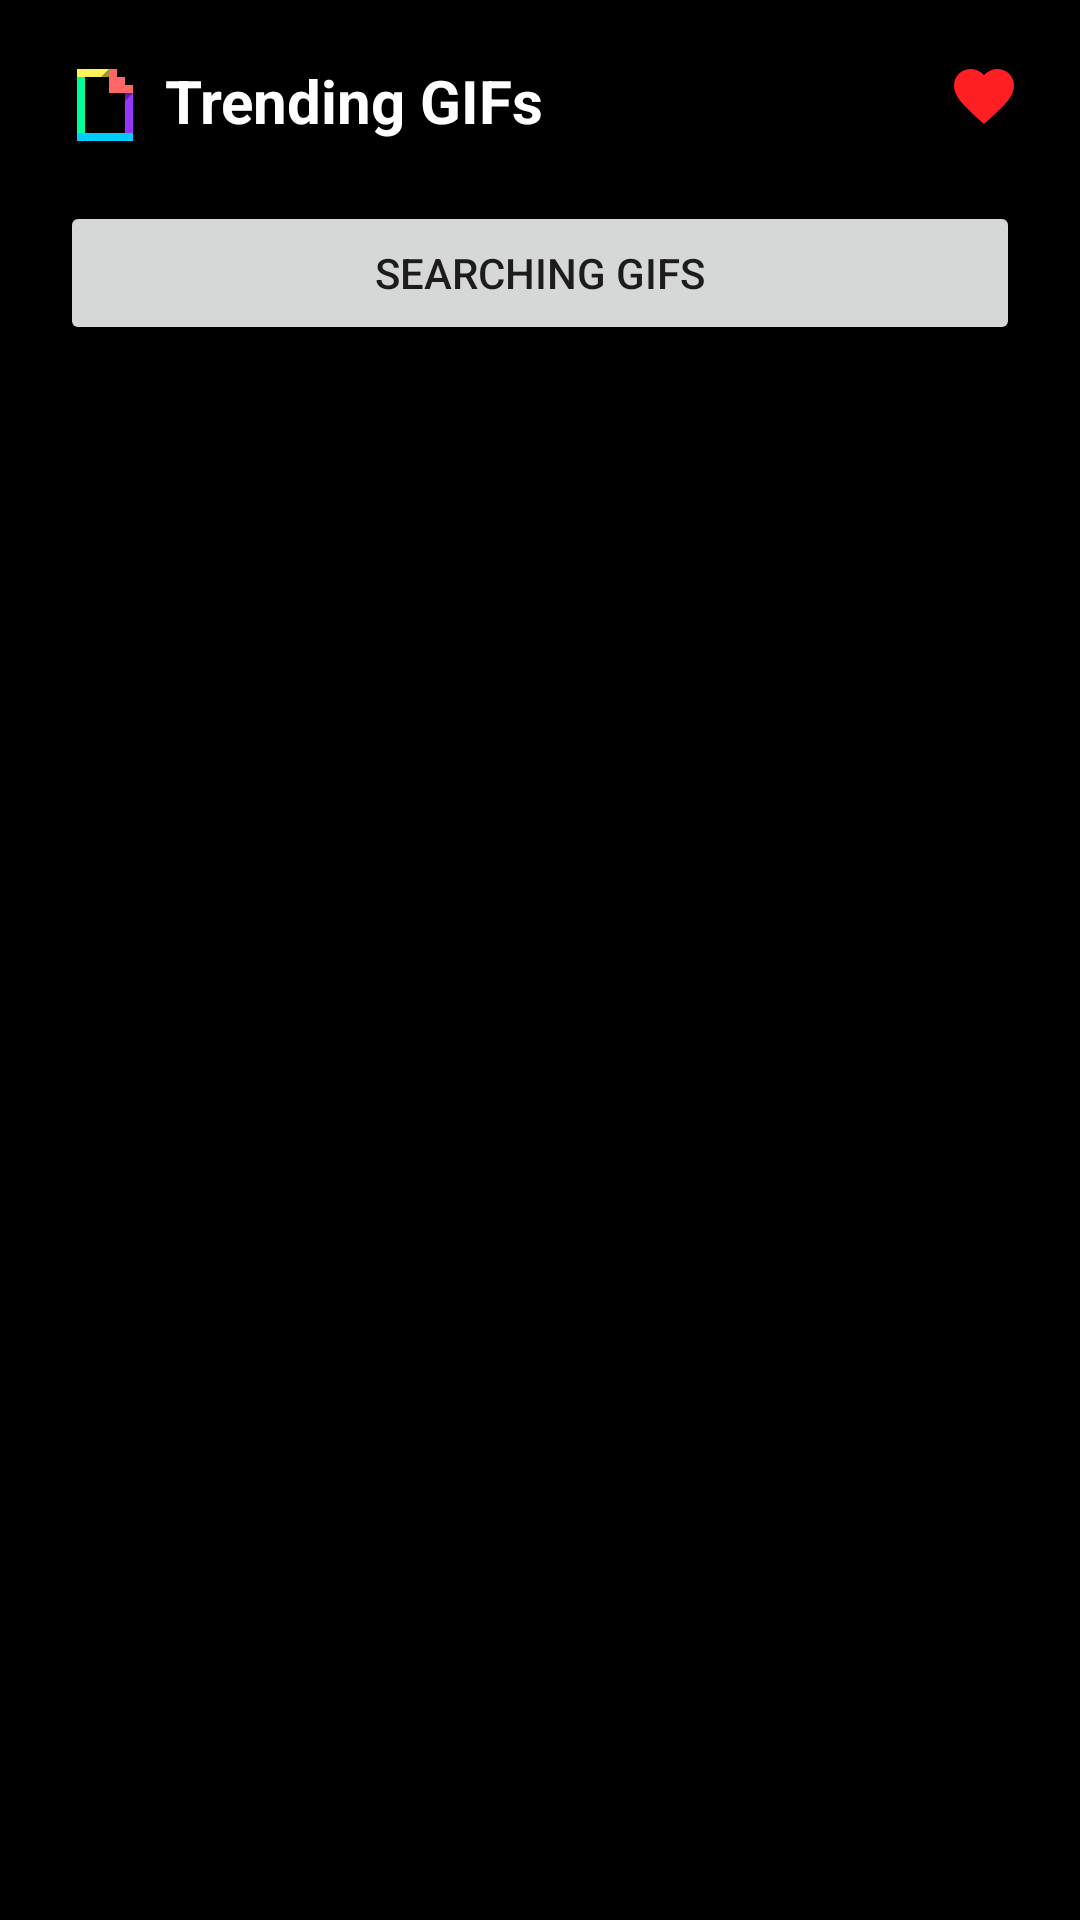

Screen size 1080w x 1920h. Icon name, then its box in pixels as (x1, y1, x2, y2):
favorite: (954, 69, 1014, 124)
